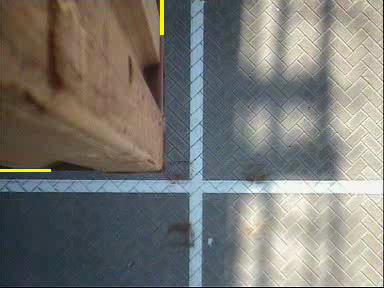groundmarker_2: (158, 178, 263, 244)
